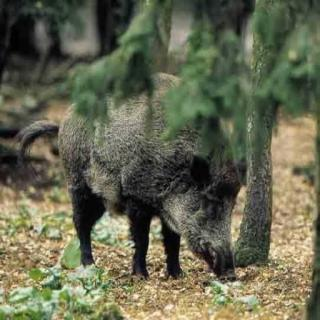Pig: (61, 73, 242, 277)
